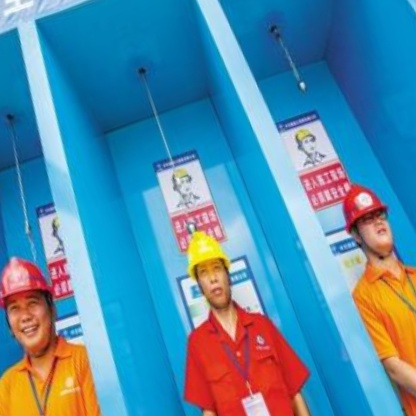red: (321, 171, 396, 243), (0, 239, 60, 320)
yellow: (170, 215, 238, 283)
